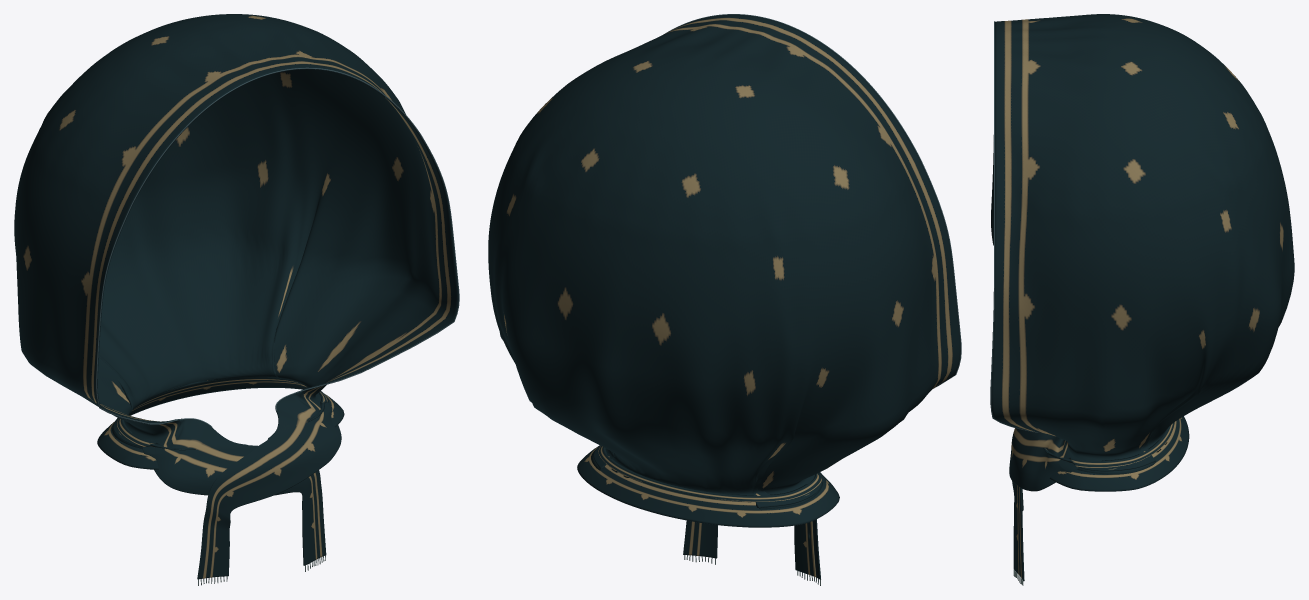
Rendered from Masculine-tshirt-pashmina240-headgear.glb.
The picture shows the model from 3 angles, left to right: view 1: azimuth 30°, elevation 25°; view 2: azimuth 150°, elevation 25°; view 3: azimuth 270°, elevation 25°; orthographic projection. The views are drawn at different scales.
Visible parts, largest first — view 1: 226 headgear / Headwear / continuous woven pashmina239, 226 headgear / Headwear / face edge239; view 2: 226 headgear / Headwear / continuous woven pashmina239, 226 headgear / Headwear / face edge239; view 3: 226 headgear / Headwear / continuous woven pashmina239, 226 headgear / Headwear / face edge239.
Part boxes in pixels (x1,y1,x2,y2): 226 headgear / Headwear / continuous woven pashmina239: (14,14,458,579); 226 headgear / Headwear / face edge239: (96,67,459,427); 226 headgear / Headwear / continuous woven pashmina239: (488,14,960,579); 226 headgear / Headwear / face edge239: (665,14,961,388); 226 headgear / Headwear / continuous woven pashmina239: (991,14,1294,581); 226 headgear / Headwear / face edge239: (990,21,1039,432).
Bounding box in the file's own units: 1.03 × 1.35 × 0.7127.
Materials: 3 (1 with a texture image).
